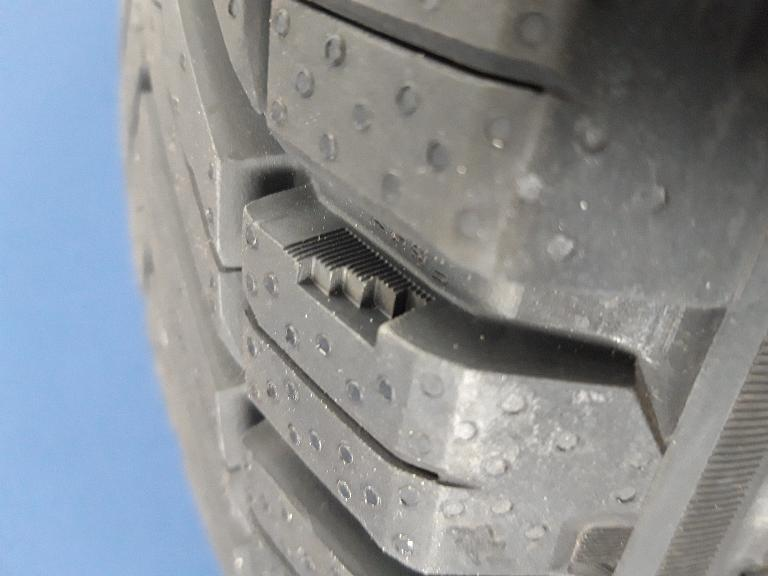temoin:100: (276, 221, 446, 359)
